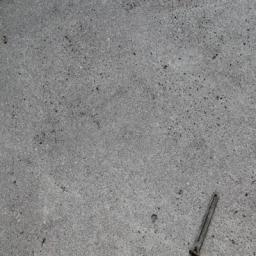FOD: (188, 190, 222, 256)
